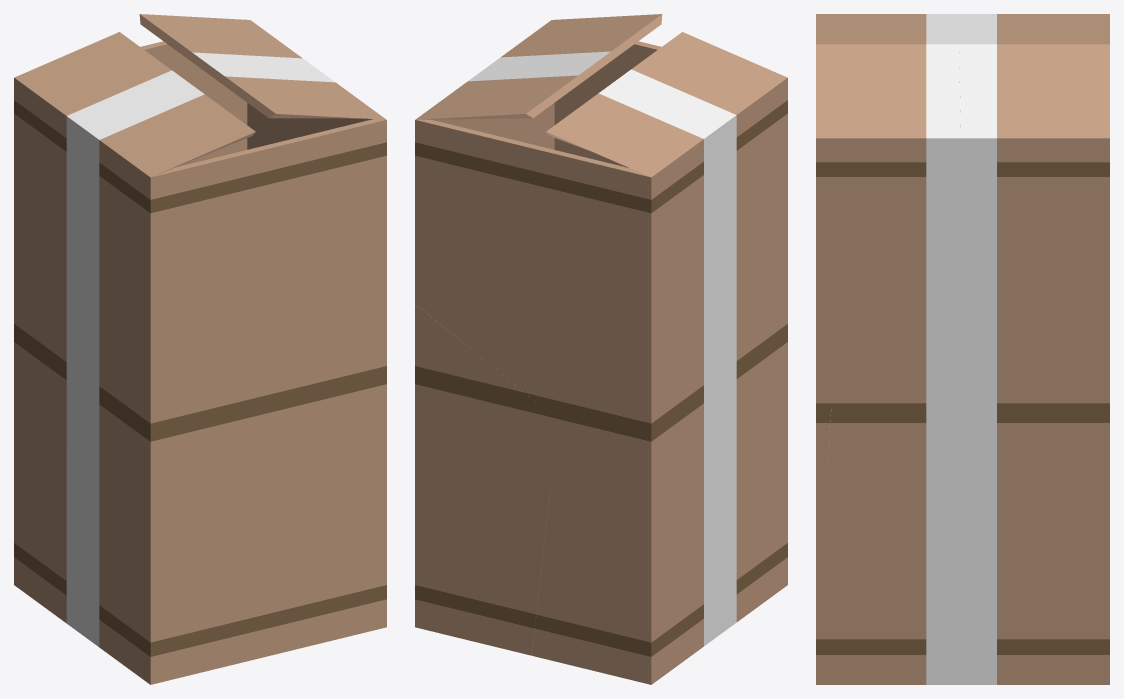
File: destructible-cartoonbox.glb
3 renders of one model, left to right at view 1: azimuth 30°, elevation 25°; view 2: azimuth 150°, elevation 25°; view 3: azimuth 270°, elevation 25°, orthographic. The views are drawn at different scales.
Visible parts, largest first — view 1: Cube.002_cell.002, Cube.002_cell.004, Cube.002_cell.003, Cube.002_cell.001, Cube.002_cell.005; view 2: Cube.002_cell.003, Cube.002_cell, Cube.002_cell.002, Cube.002_cell.001, Cube.002_cell.005, Cube.002_cell.004; view 3: Cube.002_cell, Cube.002_cell.002, Cube.002_cell.003, Cube.002_cell.004.
Part boxes in pixels (x1=…): Cube.002_cell.002: x1=76, y1=65, x2=386, y2=427; Cube.002_cell.004: x1=97, y1=370, x2=386, y2=684; Cube.002_cell.003: x1=14, y1=14, x2=318, y2=360; Cube.002_cell.001: x1=14, y1=338, x2=110, y2=654; Cube.002_cell.005: x1=14, y1=410, x2=42, y2=605; Cube.002_cell.003: x1=415, y1=62, x2=720, y2=438; Cube.002_cell: x1=415, y1=304, x2=550, y2=655; Cube.002_cell.002: x1=484, y1=14, x2=787, y2=369; Cube.002_cell.001: x1=550, y1=367, x2=747, y2=663; Cube.002_cell.005: x1=532, y1=485, x2=679, y2=684; Cube.002_cell.004: x1=734, y1=328, x2=787, y2=613; Cube.002_cell: x1=816, y1=336, x2=1109, y2=684; Cube.002_cell.002: x1=816, y1=14, x2=972, y2=407; Cube.002_cell.003: x1=959, y1=14, x2=1109, y2=336; Cube.002_cell.004: x1=816, y1=408, x2=831, y2=643.
Size of the model in its own units: 2 by 4.37 by 2.
